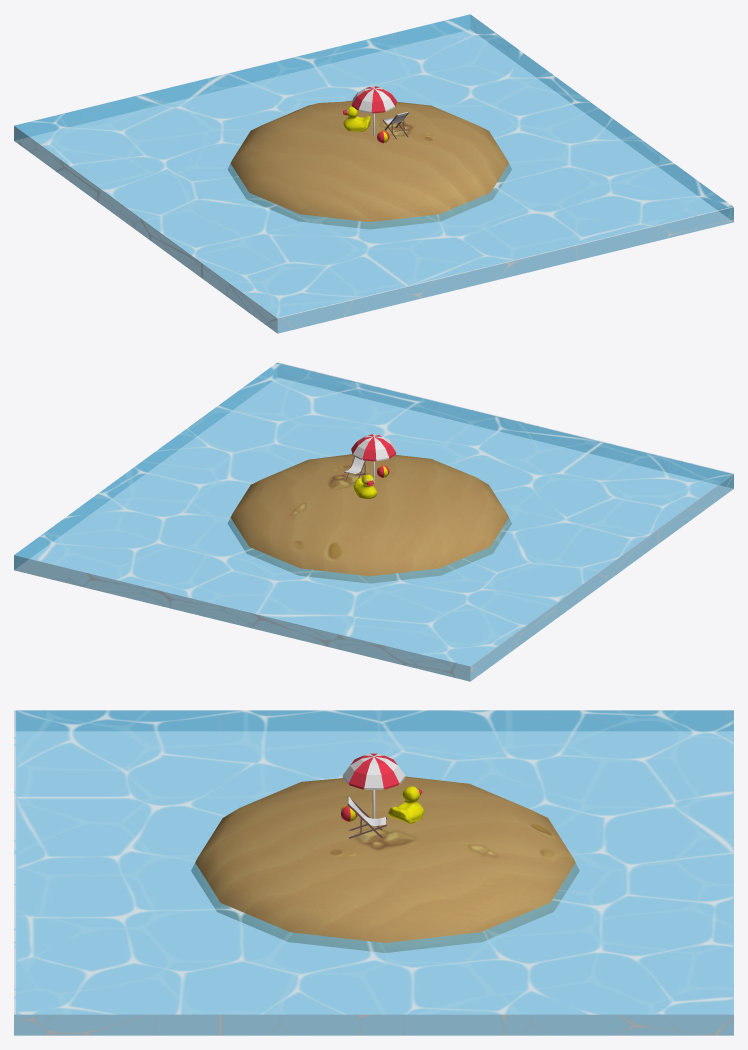
The model's file is Low_Poly_Beach.glb.
3 views of the same model, one above another, from view 1: azimuth 30°, elevation 25°; view 2: azimuth 150°, elevation 25°; view 3: azimuth 270°, elevation 25° (orthographic). The views are drawn at different scales.
Parts seen in each view (by area): view 1: Cube_0, Sphere.001_0, guarda_1, guarda_0; view 2: Cube_0, Sphere.001_0, guarda_1, guarda_0; view 3: Cube_0, Sphere.001_0, guarda_1, guarda_0, pato_0.
Boxes of the visible parts, x1,y1,x2,y2 form: Cube_0: (14, 14, 733, 333); Sphere.001_0: (228, 100, 511, 229); guarda_1: (352, 86, 394, 135); guarda_0: (351, 86, 396, 113); Cube_0: (14, 362, 733, 681); Sphere.001_0: (228, 454, 511, 583); guarda_1: (353, 434, 395, 483); guarda_0: (351, 434, 396, 461); Cube_0: (14, 710, 733, 1035); Sphere.001_0: (191, 776, 579, 952); guarda_1: (342, 753, 405, 818); guarda_0: (348, 753, 399, 789); pato_0: (388, 786, 423, 823).
Bounding box in the file's own units: 38.68 × 7.55 × 38.68.
6 materials, 2 textured.
